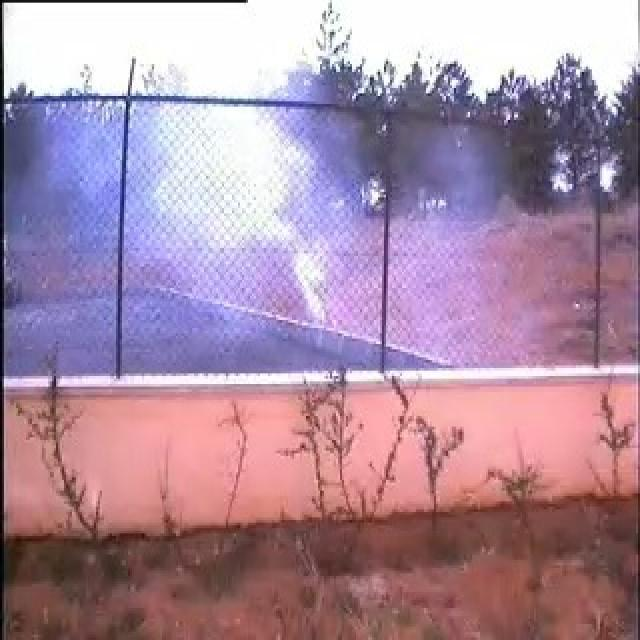Smoke: (64, 104, 398, 376)
